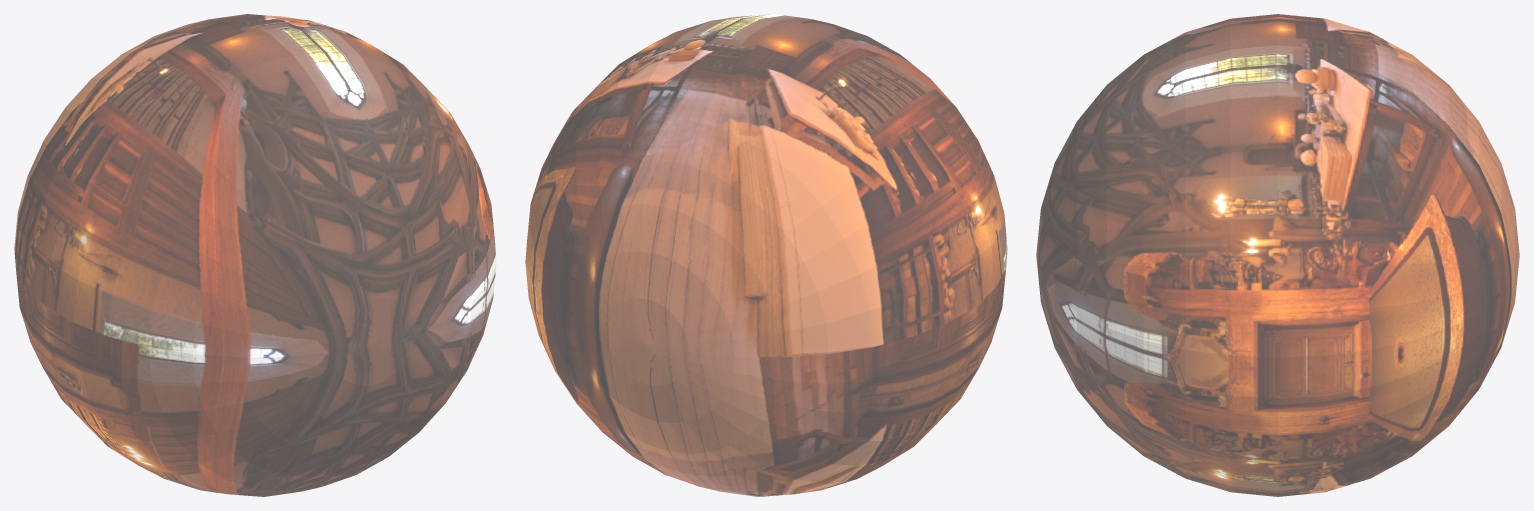
File: FIRJAN_XR_Sphere_360_00.glb
3 views of the same model, side by side, from view 1: azimuth 30°, elevation 25°; view 2: azimuth 150°, elevation 25°; view 3: azimuth 270°, elevation 25° (orthographic).
Parts seen in each view (by area): view 1: Sphere_360_00; view 2: Sphere_360_00; view 3: Sphere_360_00.
Part boxes in pixels (left/top/right/bottom): Sphere_360_00: left=14, top=14, right=496, bottom=496; Sphere_360_00: left=525, top=14, right=1007, bottom=496; Sphere_360_00: left=1036, top=14, right=1519, bottom=496.
Bounding box in the file's own units: 20 × 20 × 20.
1 material, 1 textured.
